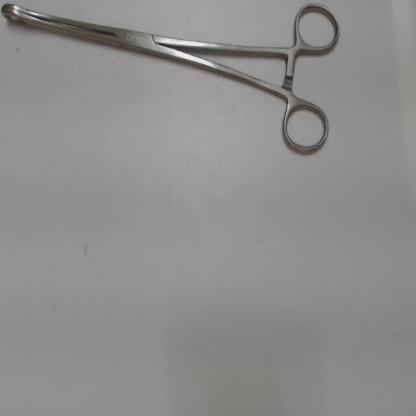Sponge Forceps: (1, 0, 345, 163)
